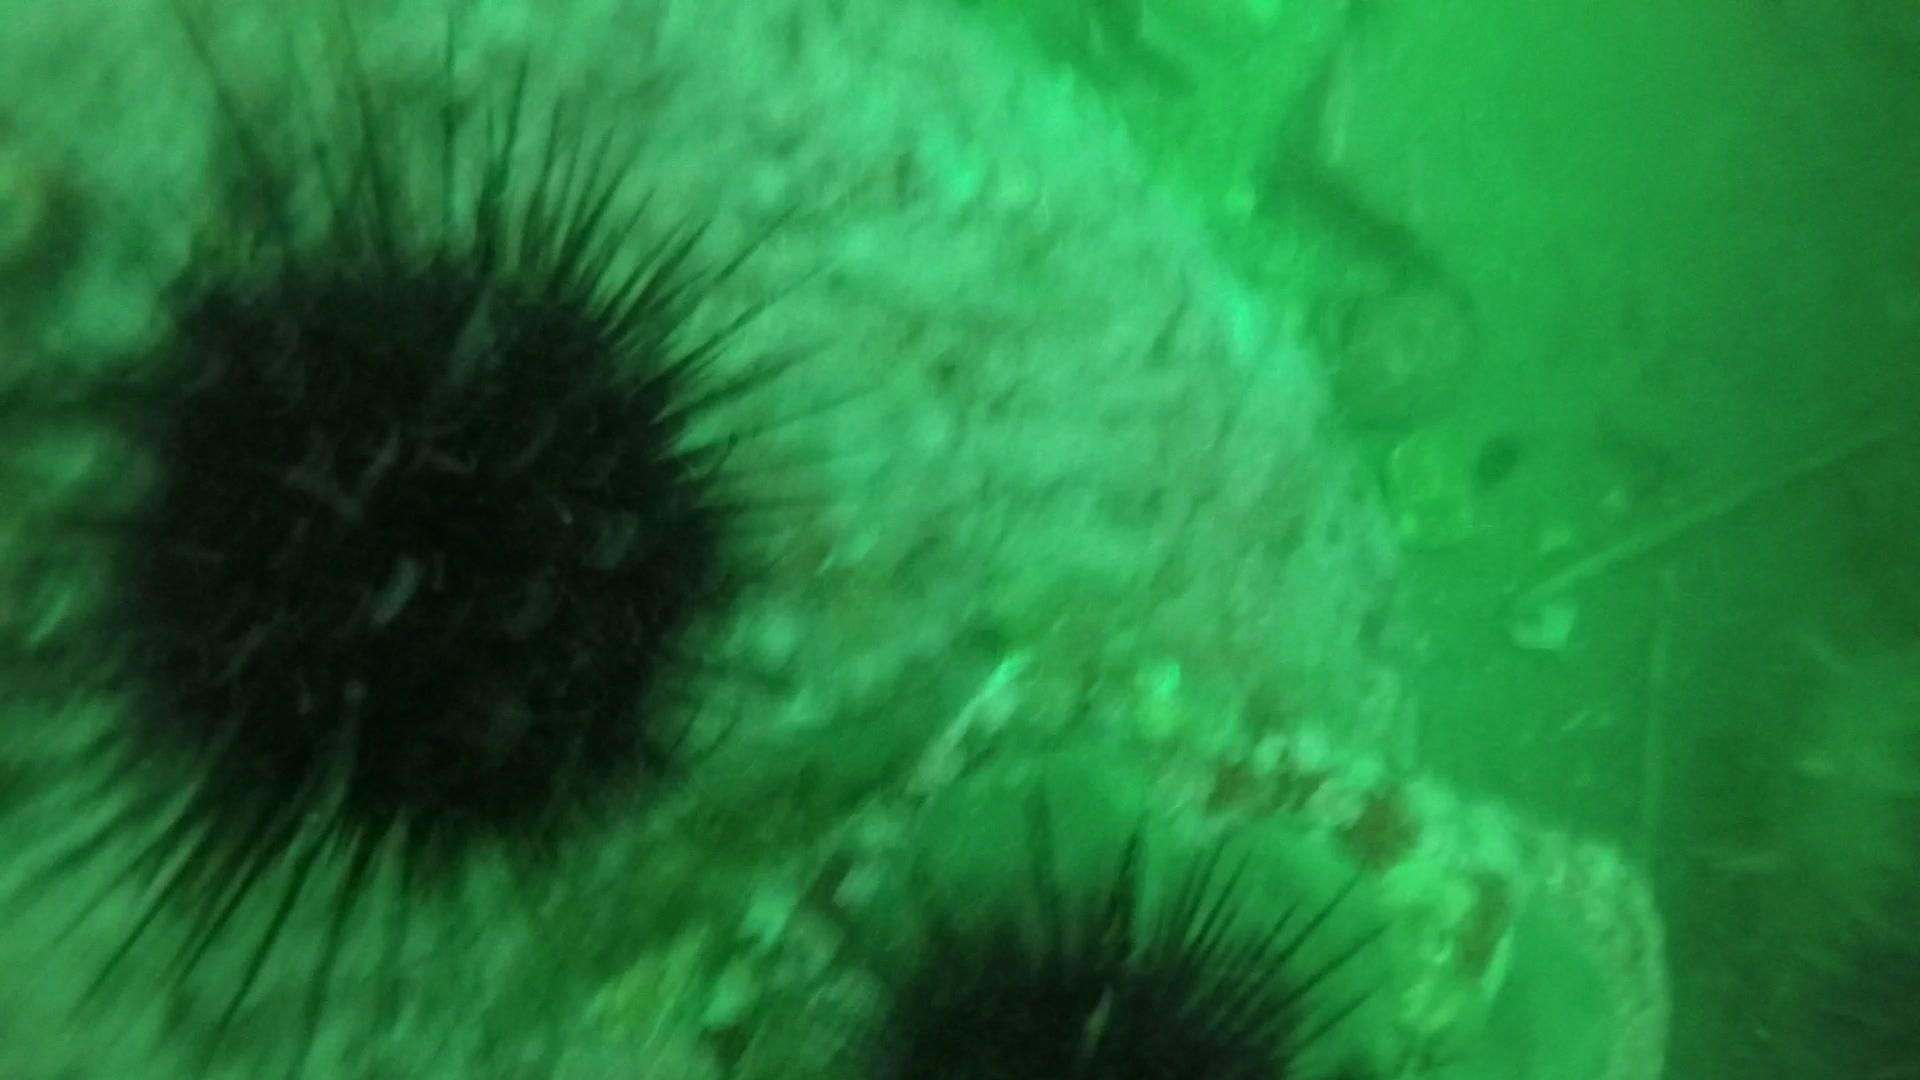echinus: (1, 63, 851, 973), (847, 829, 1399, 1073)
